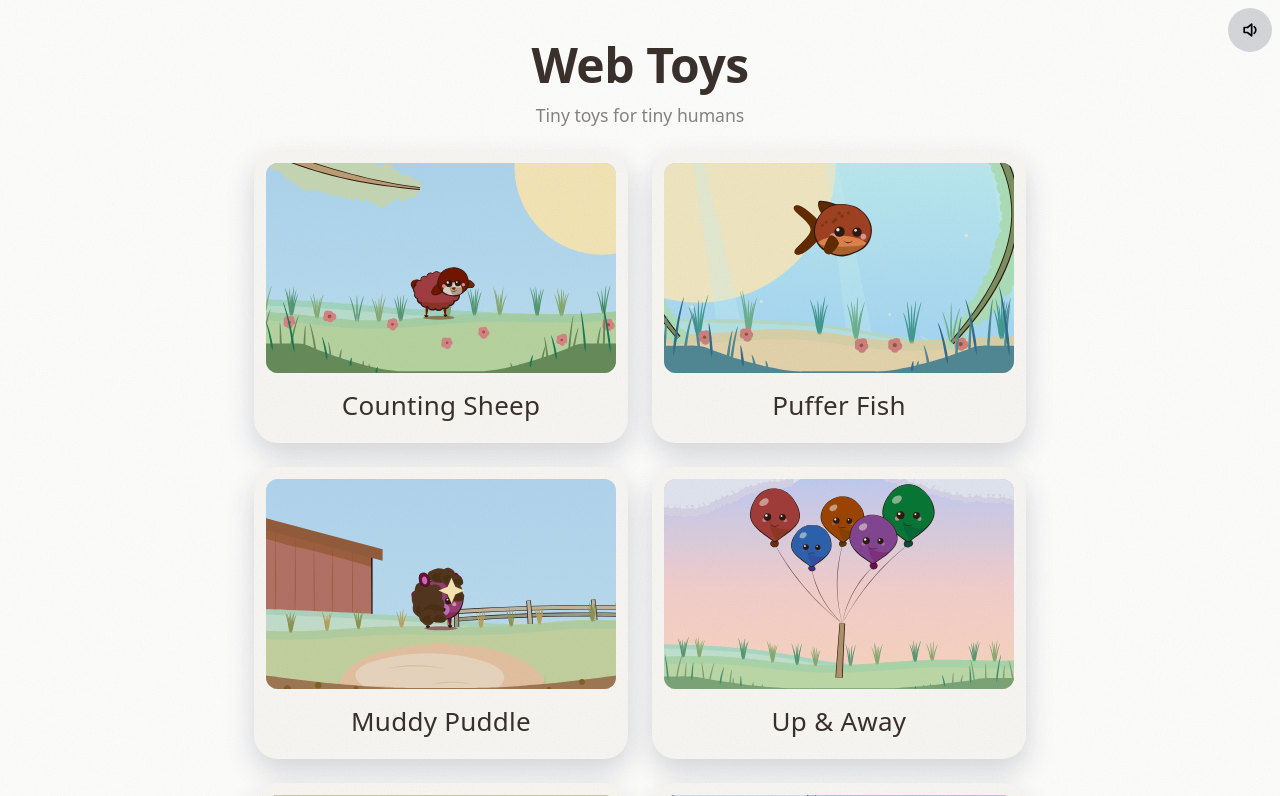
Test: registered toys › routes to the Up & Away Toy when its Card is tapped
Click the link "Up & Away" at (839, 613), box [652, 467, 1026, 759]
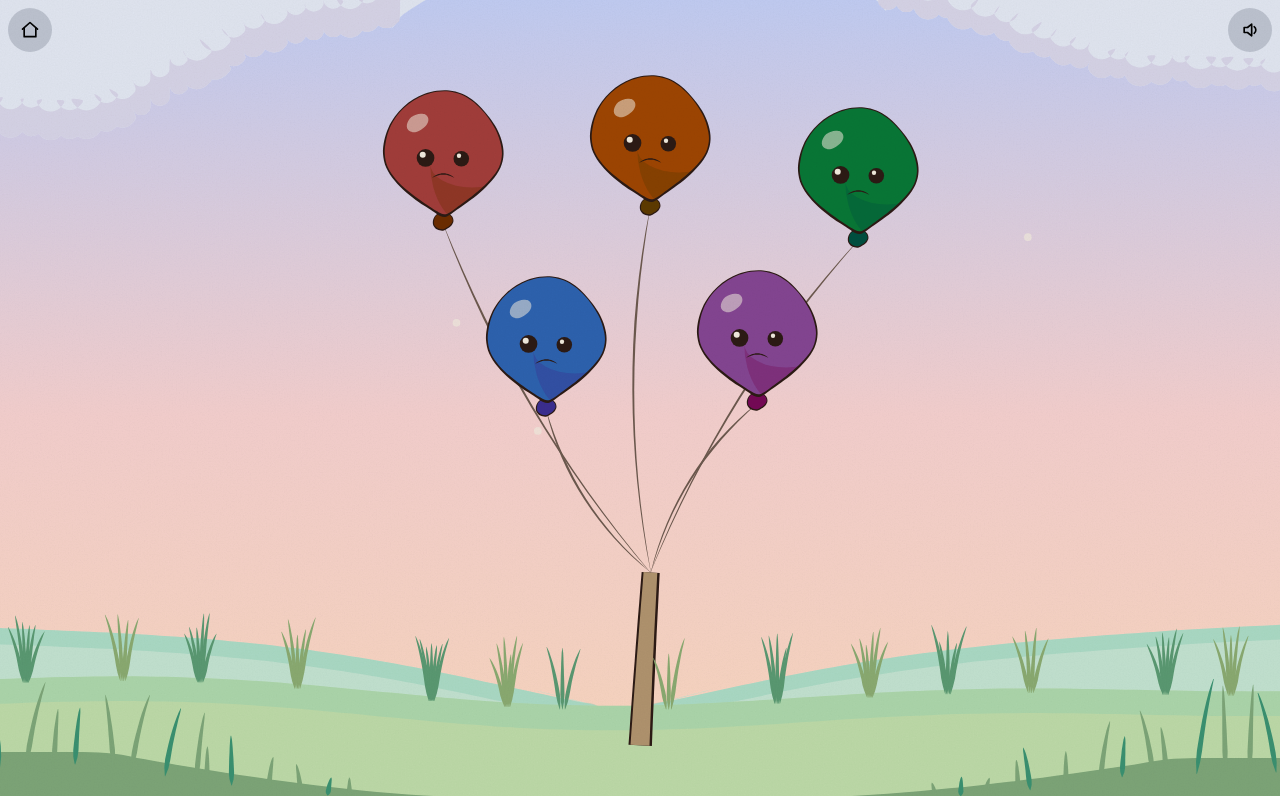
Check: the link "Counting Sheep" is gone
